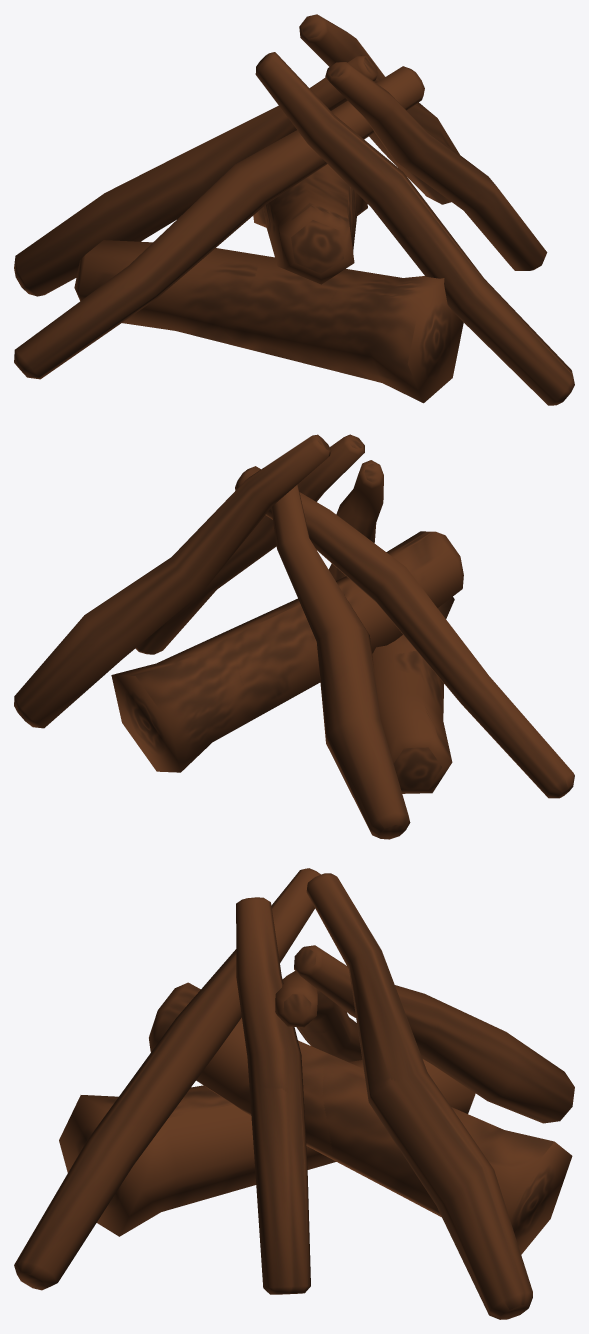
File: Campfire.obj
The picture shows the model from 3 angles, top to bottom: view 1: azimuth 30°, elevation 25°; view 2: azimuth 150°, elevation 25°; view 3: azimuth 270°, elevation 25°; orthographic projection. The views are drawn at different scales.
Parts seen in each view (by area): view 1: Branch_Narrow_01.001_Cylinder.011; view 2: Branch_Narrow_01.001_Cylinder.011; view 3: Branch_Narrow_01.001_Cylinder.011.
Boxes of the visible parts, x1,y1,x2,y2 form: Branch_Narrow_01.001_Cylinder.011: (14, 14, 574, 405); Branch_Narrow_01.001_Cylinder.011: (14, 434, 574, 839); Branch_Narrow_01.001_Cylinder.011: (14, 868, 574, 1319).
Size of the model in its own units: 2.42 by 1.42 by 2.04.
